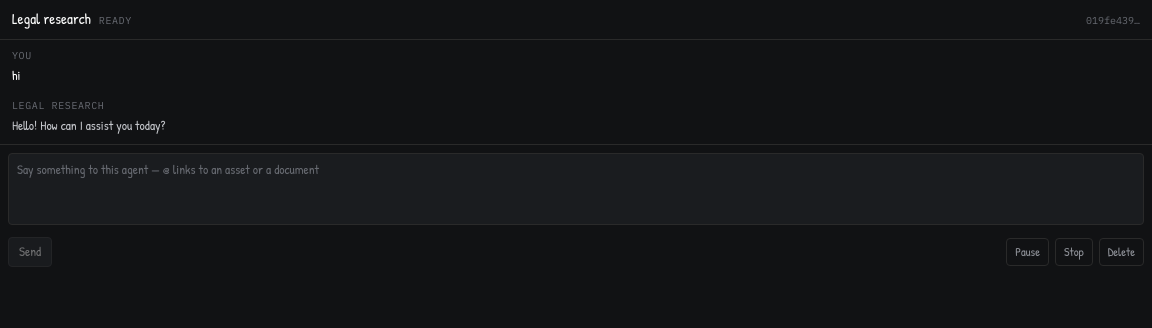
it: deleting a work session › the confirmation states what Stop would have done instead
This screenshot has width=1152, height=328.
Step 1. Click the button with test id "session-delete" → (1121, 252), box [1099, 238, 1144, 266]
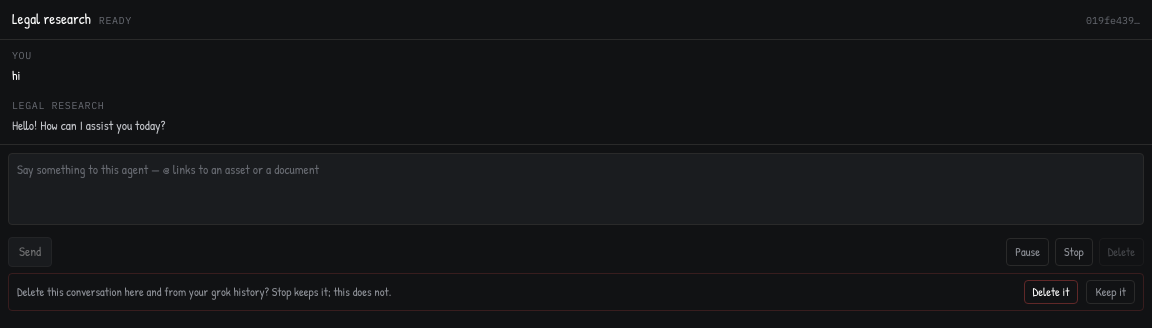
Now the element with test id "session-delete-confirm" shows "grok history", box [17, 282, 391, 300]
Now the element with test id "session-delete-confirm" shows "Stop keeps it", box [17, 282, 391, 300]
